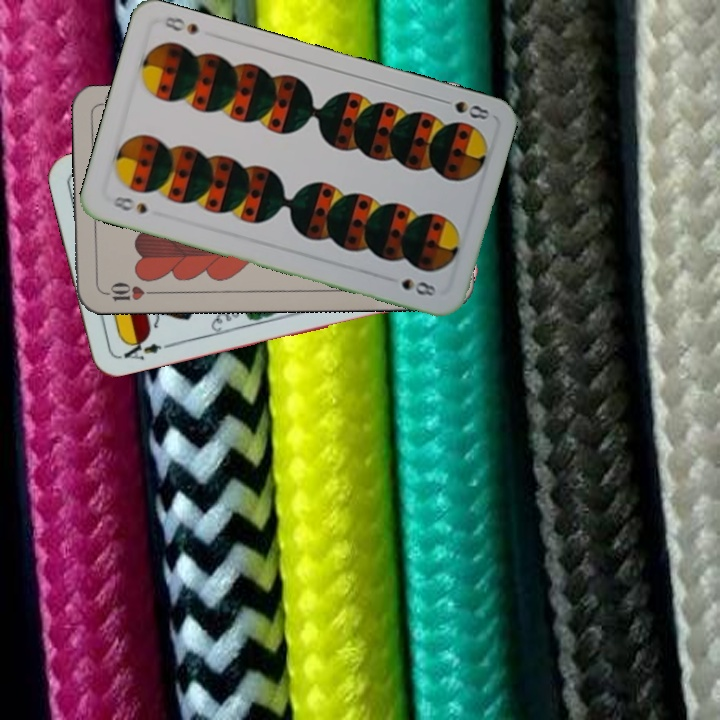EA: (120, 333, 173, 363)
H10: (99, 278, 158, 304)
S8: (435, 94, 492, 123), (108, 192, 150, 217)
